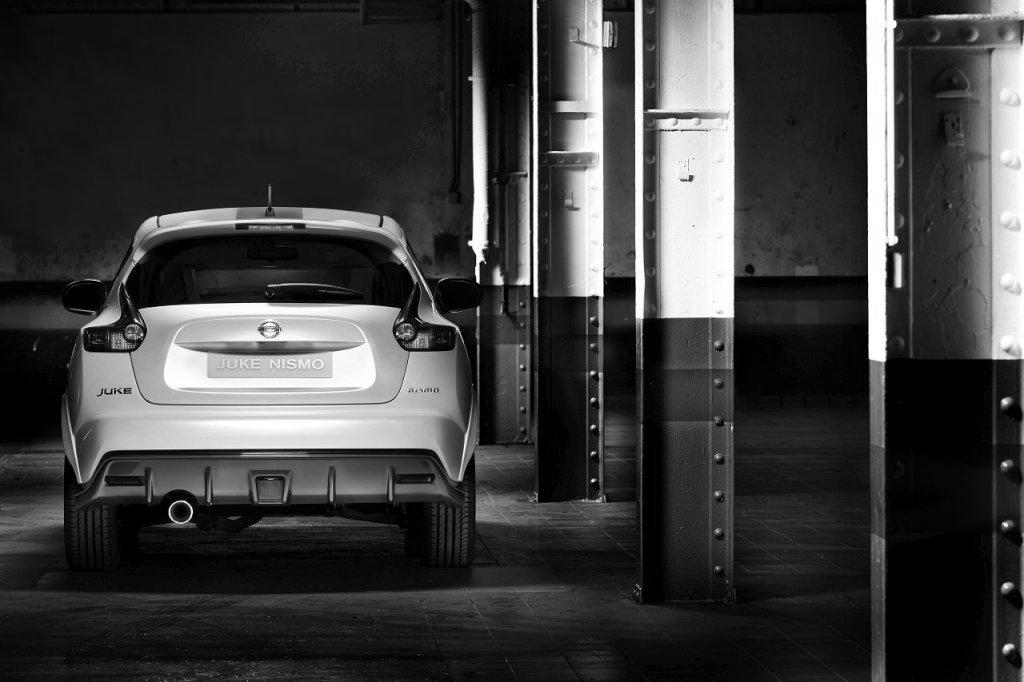car: (57, 182, 488, 587)
